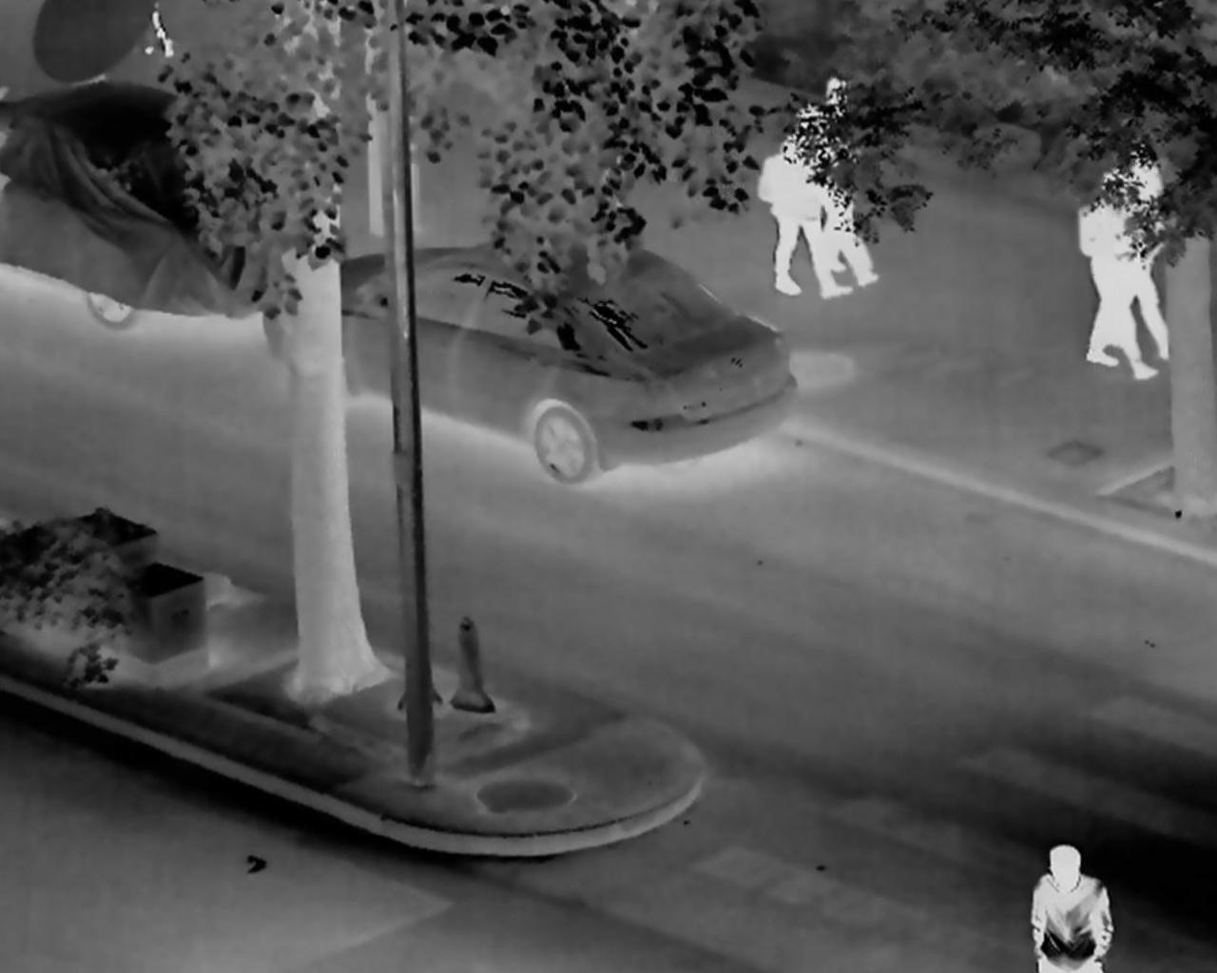person: (1075, 170, 1158, 380), (757, 118, 845, 298), (793, 106, 881, 285), (1107, 158, 1181, 364), (807, 72, 881, 268), (1026, 845, 1113, 971)
